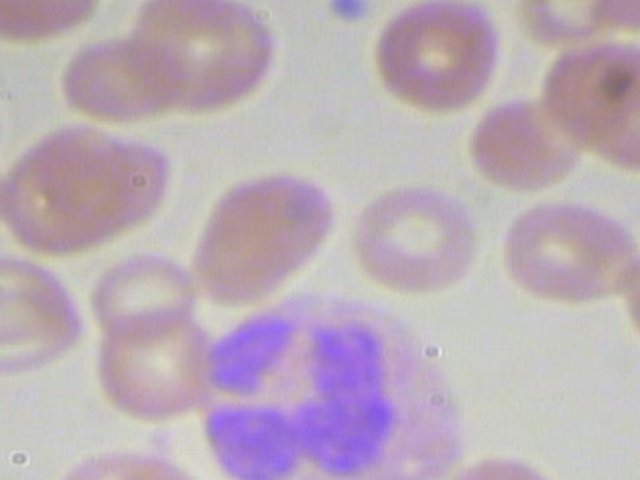RBC: (179, 165, 347, 316), (342, 180, 491, 308), (0, 119, 139, 256), (362, 0, 504, 117), (91, 302, 215, 426), (501, 200, 640, 305), (54, 22, 190, 125), (462, 89, 588, 196), (85, 249, 207, 336), (0, 285, 84, 381), (629, 210, 640, 362)
WBC: (183, 284, 475, 480)
